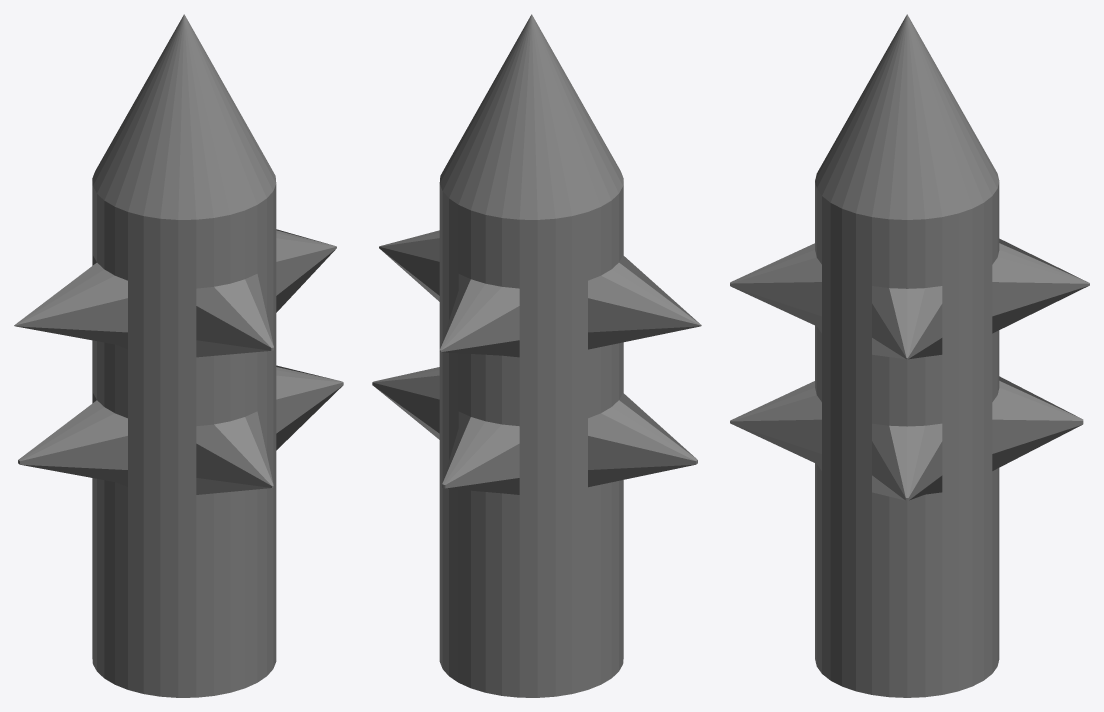
File: thornobj.obj
3 renders of one model, left to right at view 1: azimuth 30°, elevation 25°; view 2: azimuth 150°, elevation 25°; view 3: azimuth 270°, elevation 25°, orthographic.
Parts seen in each view (by area): view 1: 円錐; view 2: 円錐; view 3: 円錐.
Part boxes in pixels (x1=…): 円錐: x1=14, y1=14, x2=343, y2=697; 円錐: x1=372, y1=14, x2=701, y2=697; 円錐: x1=730, y1=14, x2=1089, y2=697.
Bounding box in the file's own units: 4.11 × 7.72 × 3.9.
1 material, 1 textured.
